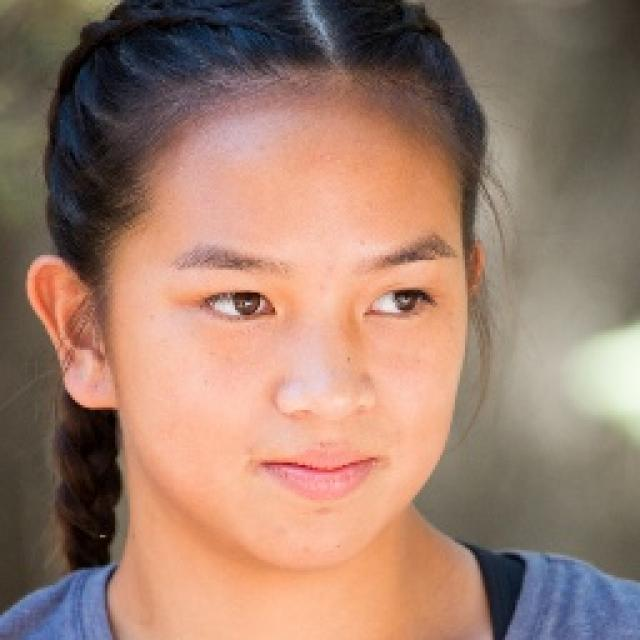earlobe: (78, 354, 120, 412)
eye: (195, 286, 277, 327), (364, 290, 434, 318)
nose: (279, 406, 380, 442)
wholeear: (24, 253, 119, 411), (464, 236, 489, 302)
